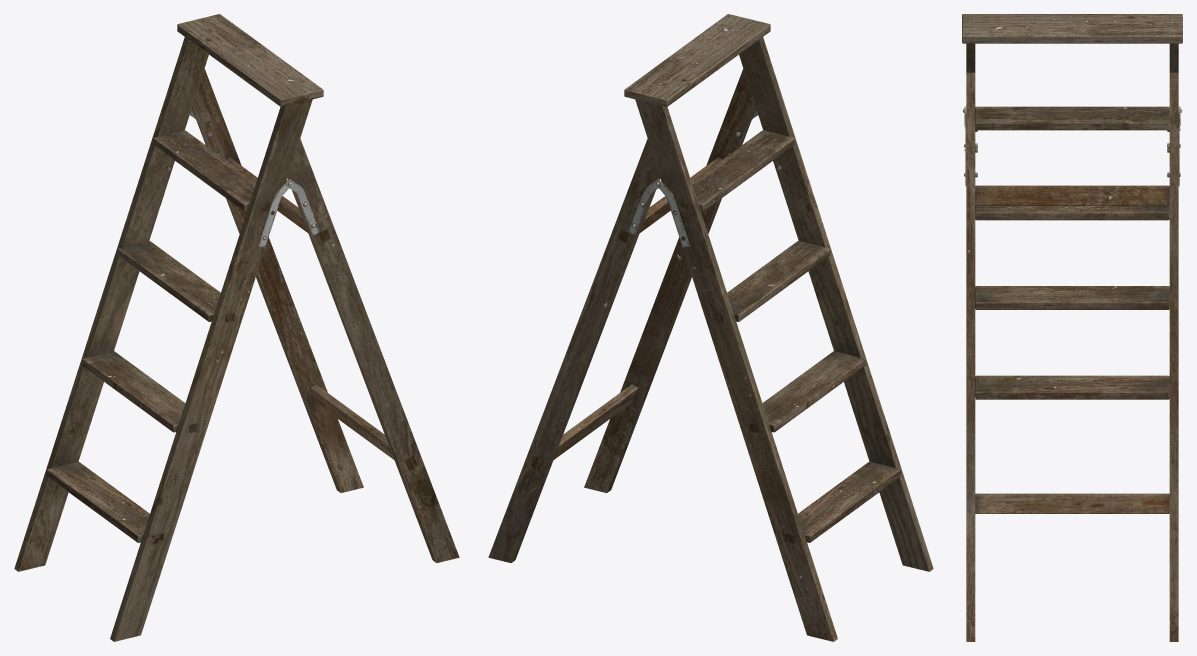
The model's file is wooden_ladder.glb.
3 views of the same model, side by side, from view 1: azimuth 30°, elevation 25°; view 2: azimuth 150°, elevation 25°; view 3: azimuth 270°, elevation 25° (orthographic). The views are drawn at different scales.
Visible parts, largest first — view 1: wooden_ladder_steps, wooden_ladder_supports; view 2: wooden_ladder_steps, wooden_ladder_supports; view 3: wooden_ladder_steps, wooden_ladder_supports.
Boxes of the visible parts, x1,y1,x2,y2 form: wooden_ladder_steps: [14, 14, 323, 641]; wooden_ladder_supports: [189, 68, 459, 562]; wooden_ladder_steps: [624, 14, 933, 641]; wooden_ladder_supports: [488, 68, 758, 562]; wooden_ladder_steps: [962, 14, 1182, 399]; wooden_ladder_supports: [963, 72, 1182, 641].
Size of the model in its own units: 0.9592 by 1.33 by 0.5.
Materials: 1 (1 with a texture image).
